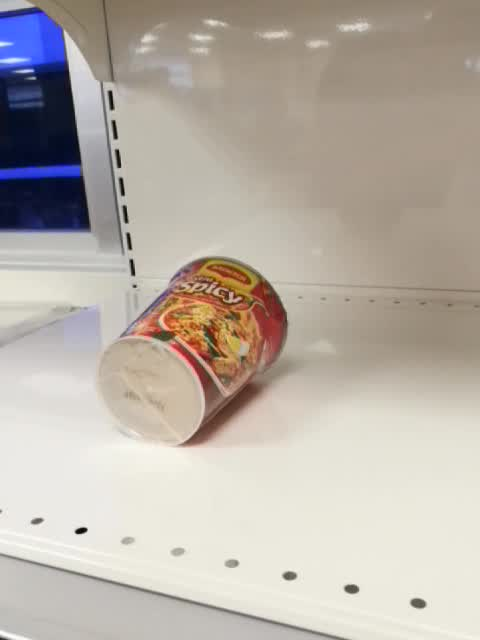maggi: (94, 256, 289, 448)
